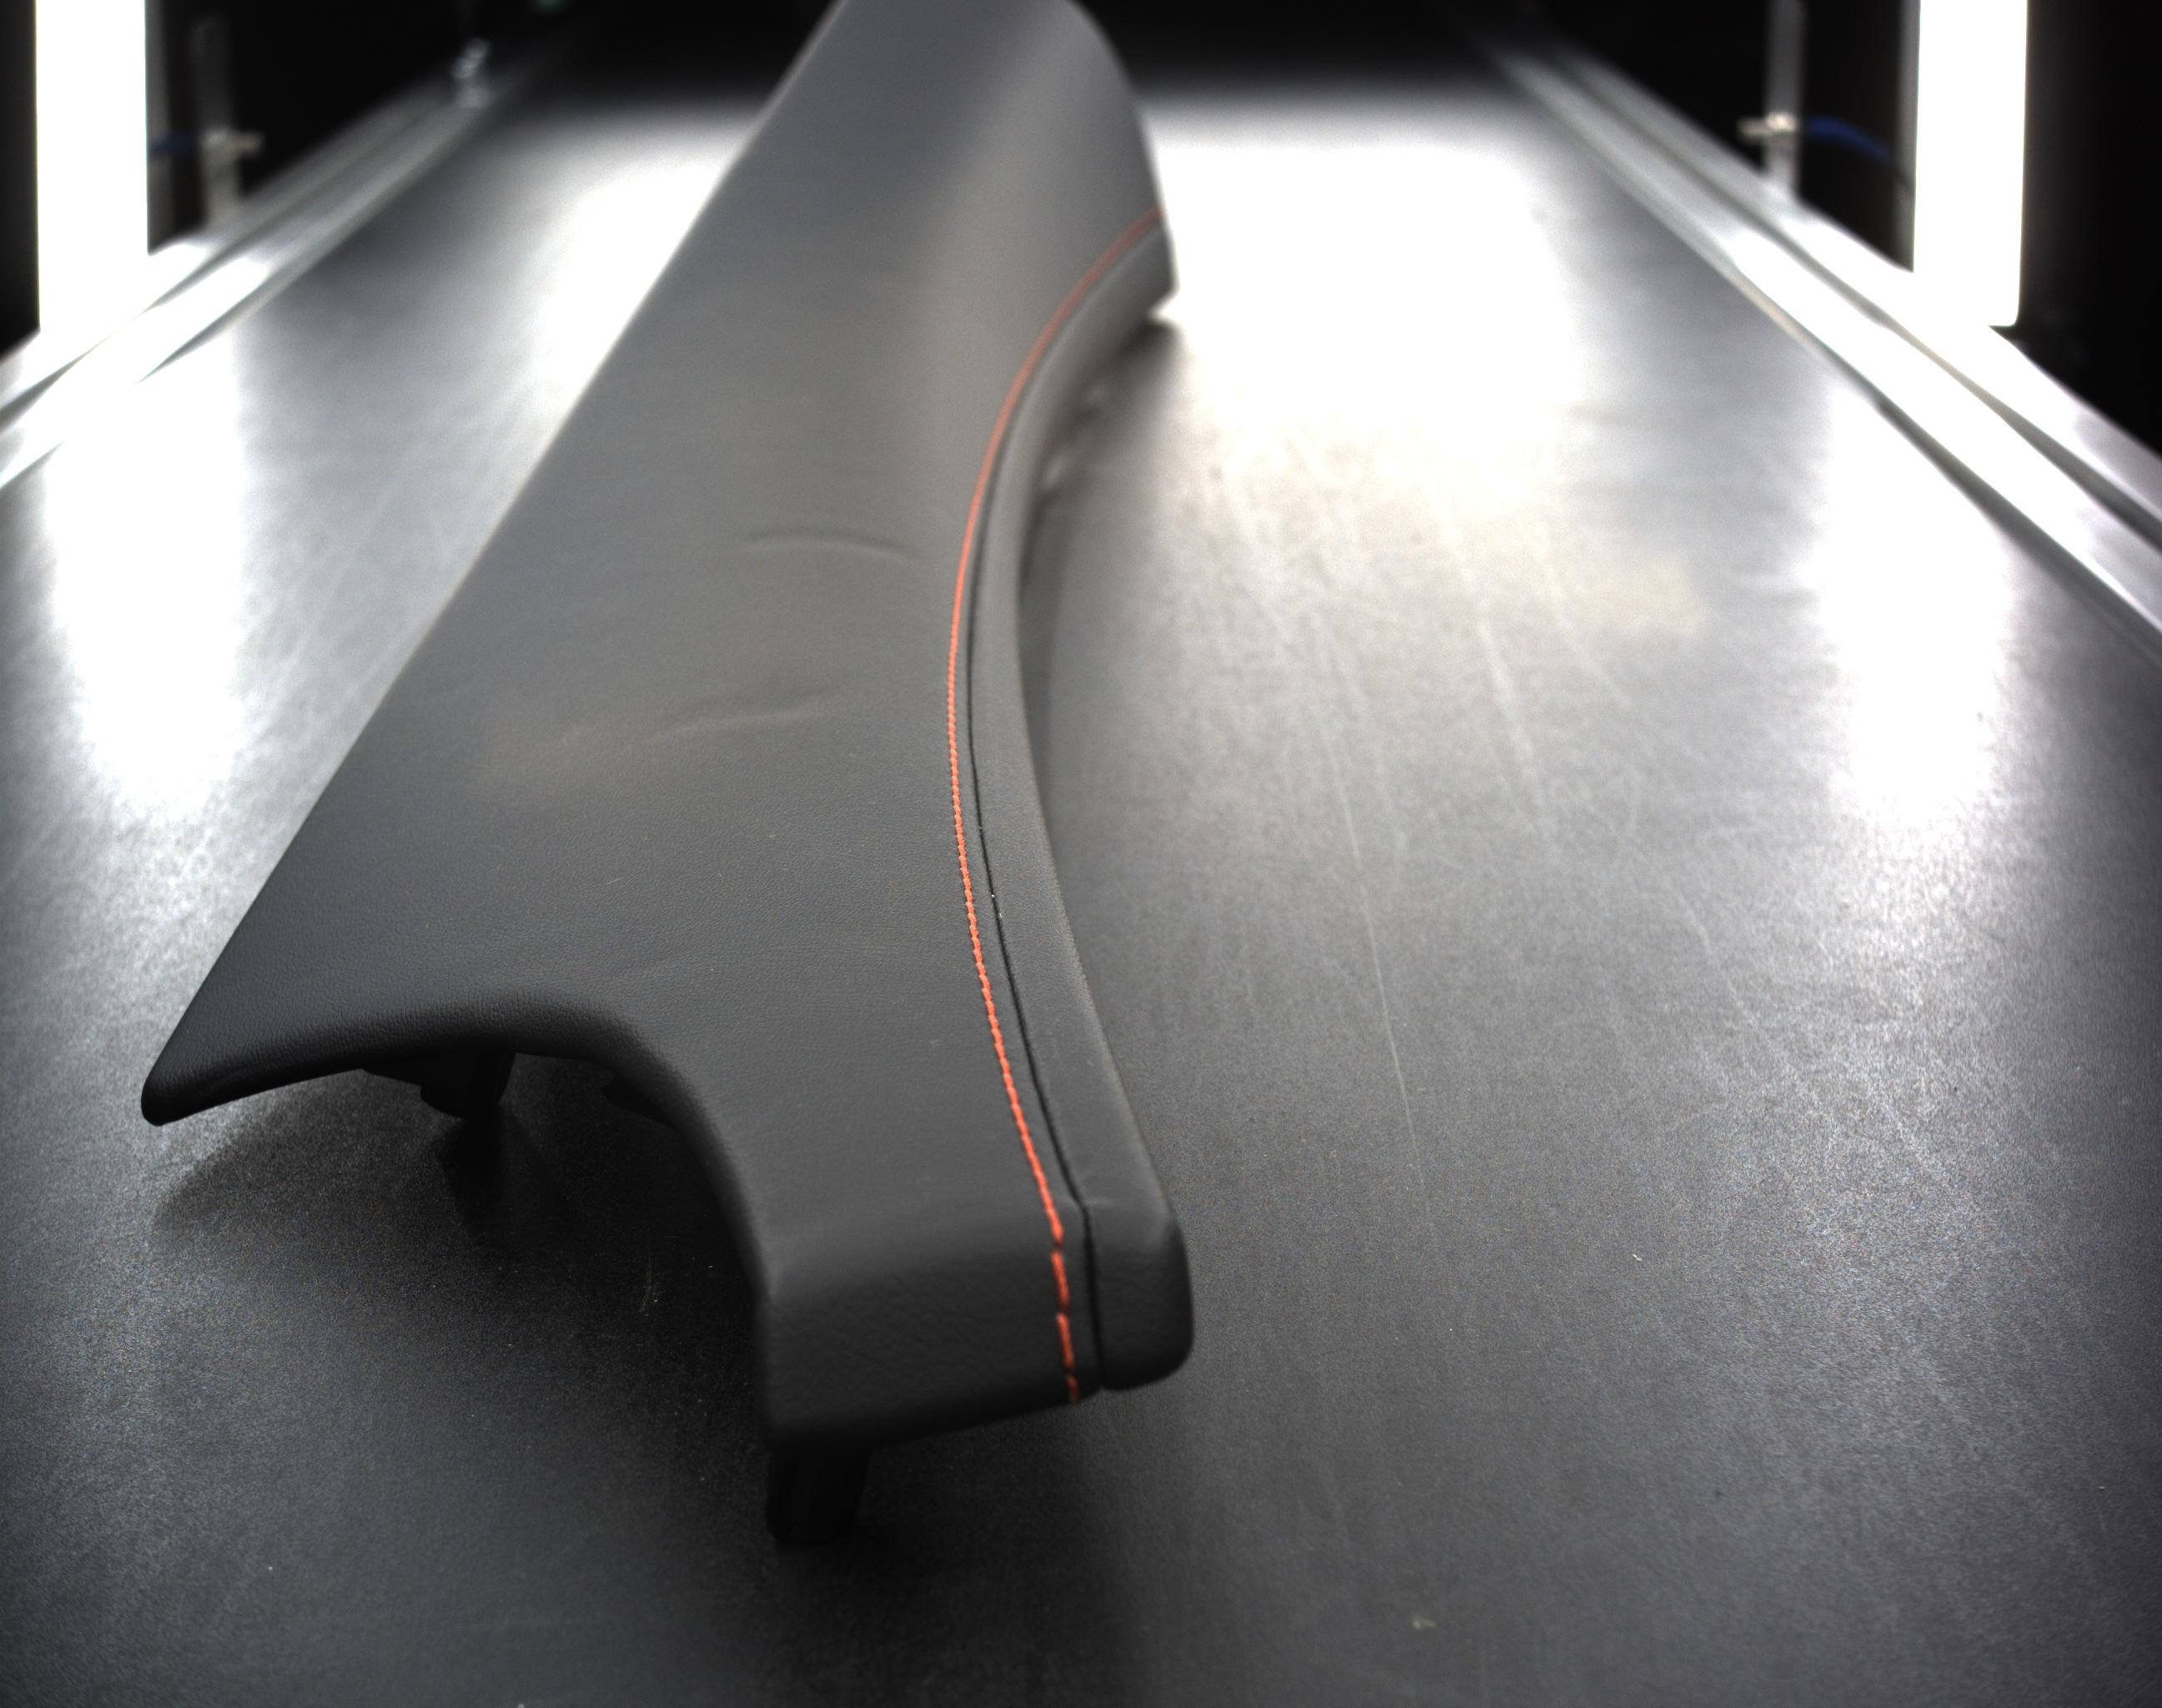vline: (1048, 1248, 1070, 1308), (1055, 1313, 1076, 1371)
